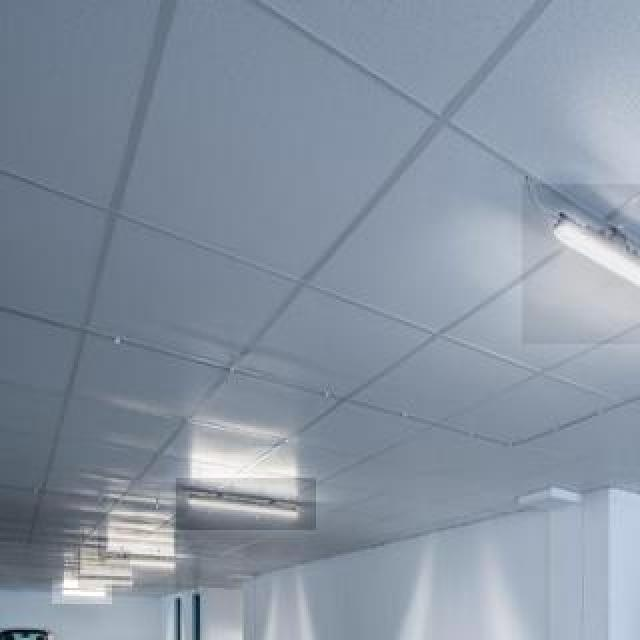fluorescent tube: (536, 214, 640, 340), (174, 484, 303, 529), (107, 543, 191, 574)
